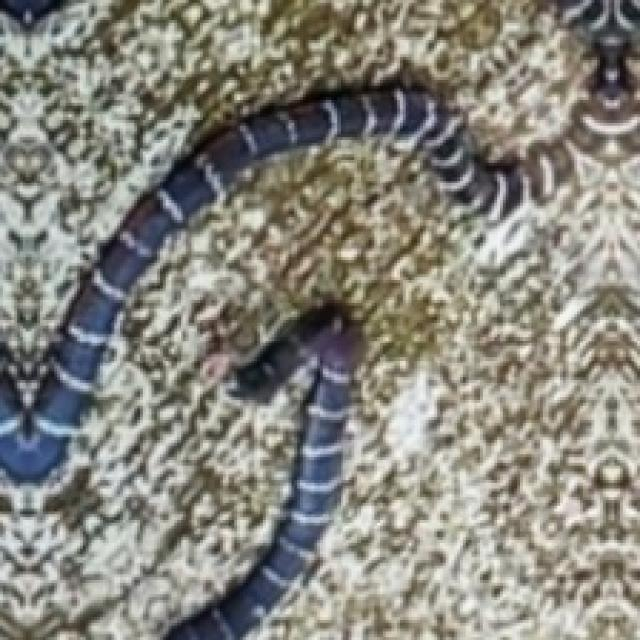barredcoral snake: (0, 86, 529, 483), (0, 86, 520, 480), (163, 303, 360, 637)
